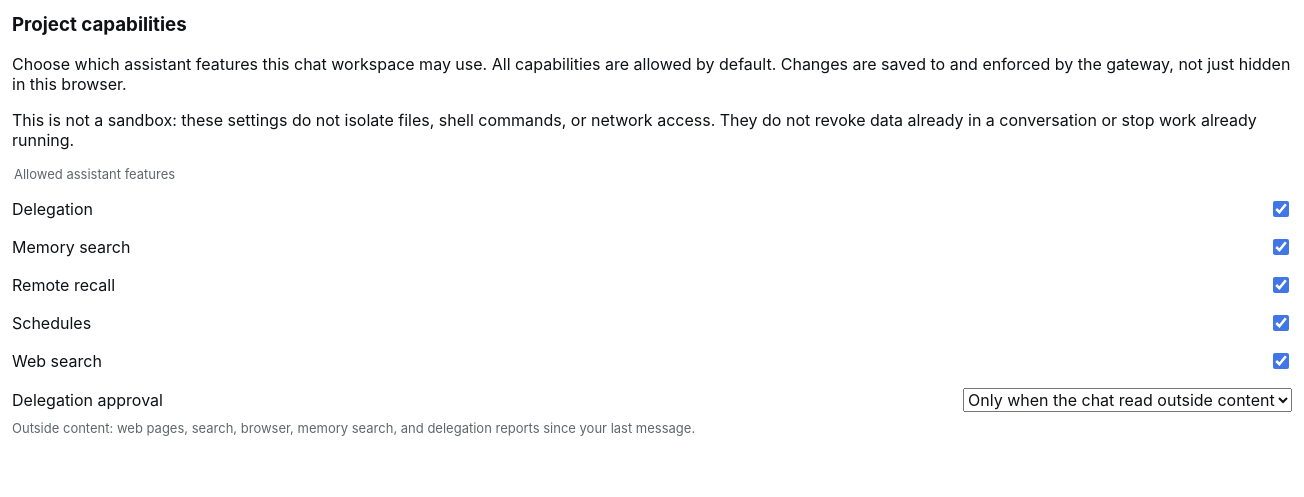
Test: keeps the saved approval policy when saving it fails
Select "Never ask" in the dropdown labelled "Delegation approval". click: (1128, 400)
box: [963, 388, 1292, 412]
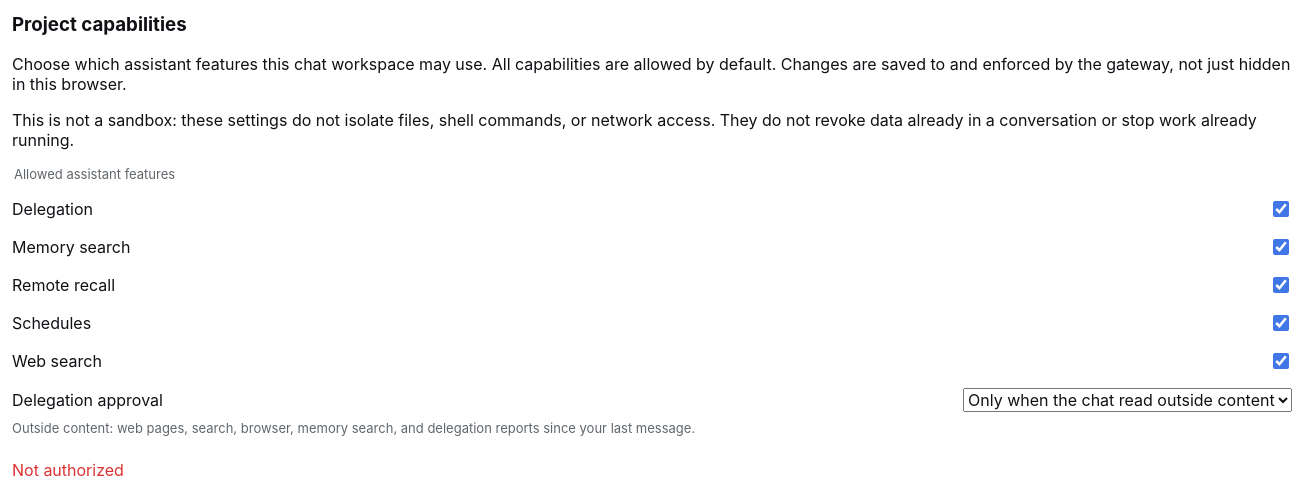
Check: the message "Not authorized" is shown, box [12, 460, 124, 480]
